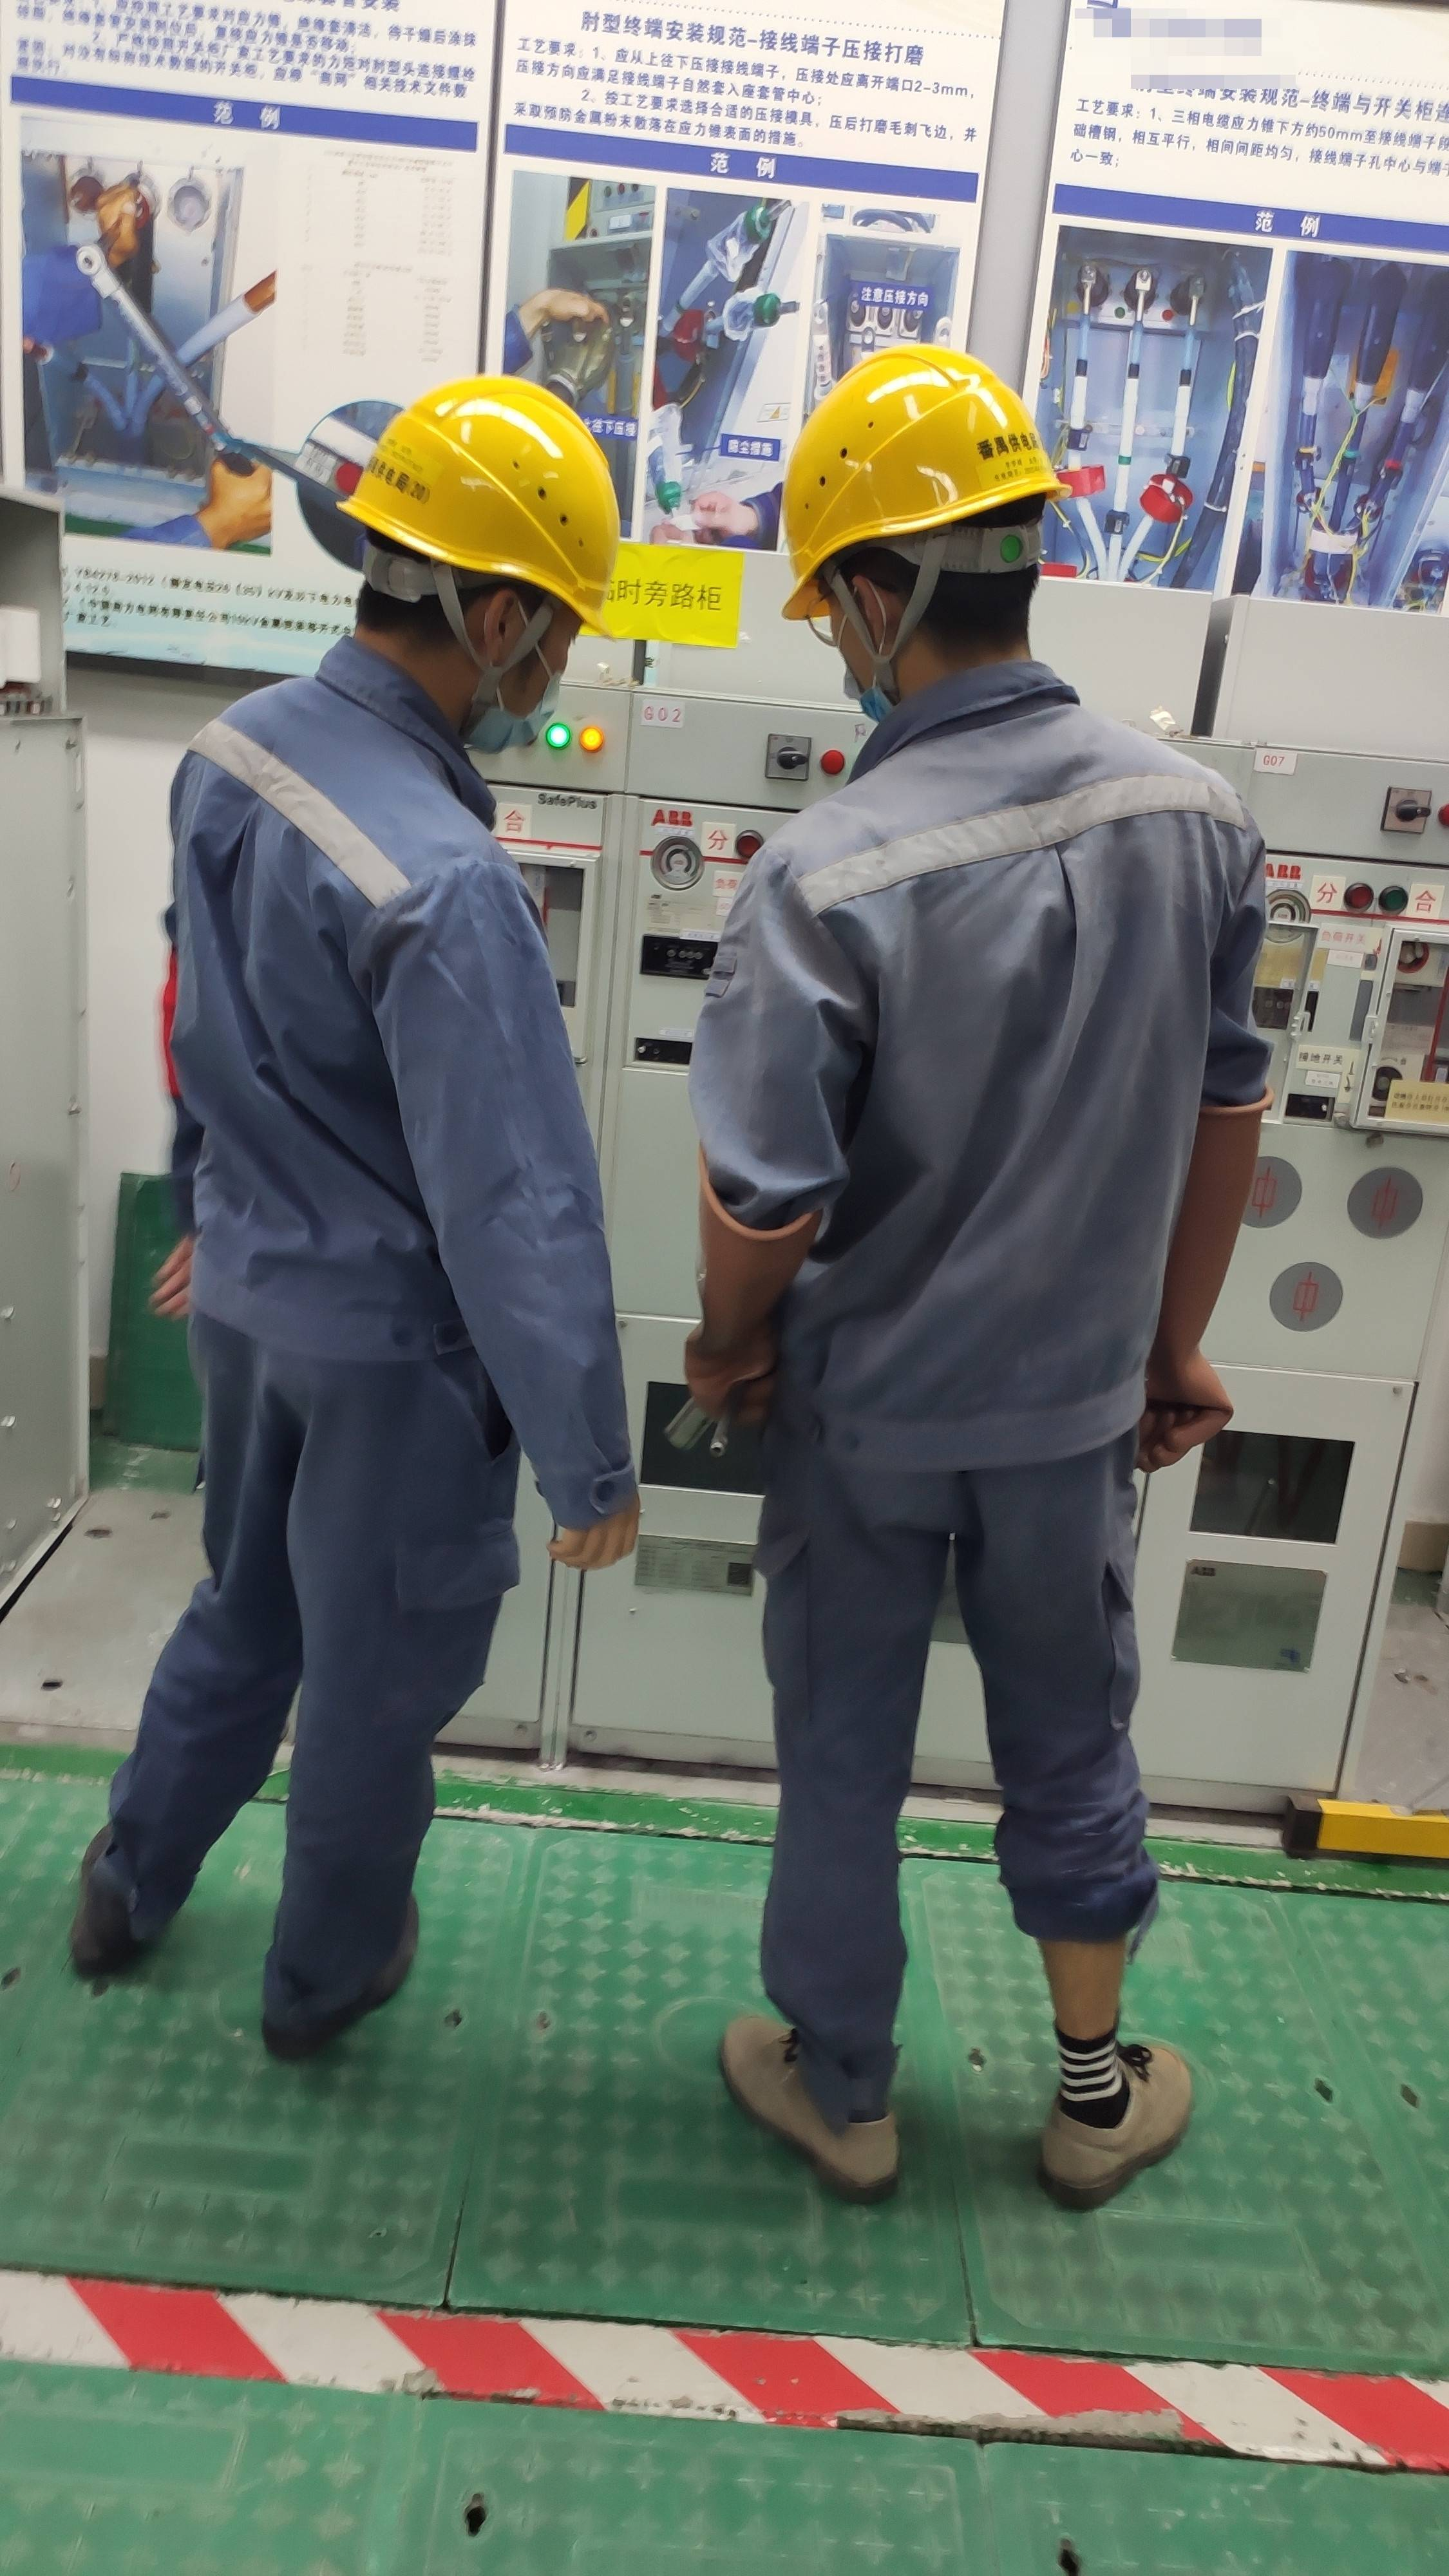downsuit: (108, 1384, 533, 2006), (757, 1467, 1164, 2100)
upsuit: (713, 695, 1269, 1472), (163, 648, 633, 1488)
wrongbottom: (1010, 1852, 1155, 2081)
